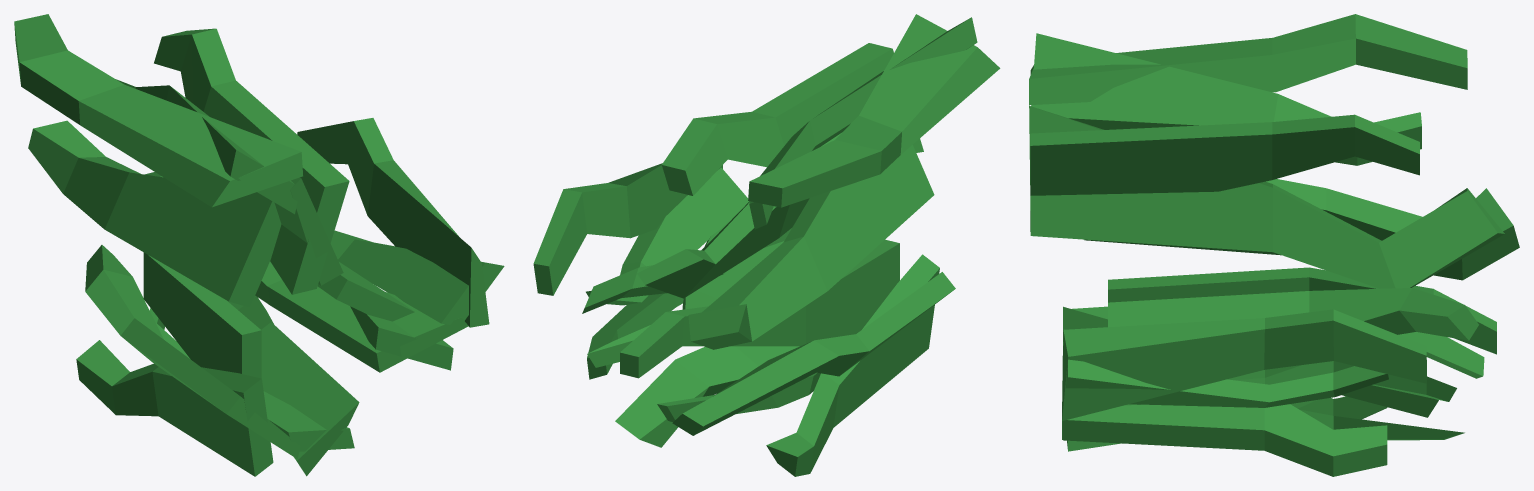
3 renders of one model, left to right at view 1: azimuth 30°, elevation 25°; view 2: azimuth 150°, elevation 25°; view 3: azimuth 270°, elevation 25°, orthographic. The views are drawn at different scales.
Parts seen in each view (by area): view 1: Cube.053_0; view 2: Cube.053_0; view 3: Cube.053_0.
Boxes of the visible parts, x1,y1,x2,y2 form: Cube.053_0: (14, 14, 504, 476); Cube.053_0: (533, 14, 1000, 476); Cube.053_0: (1029, 14, 1519, 476).
Size of the model in its own units: 0.6565 by 0.6853 by 0.7877.
